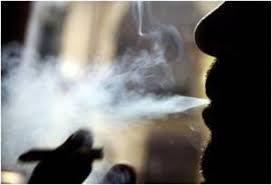smoker: (85, 0, 272, 185)
